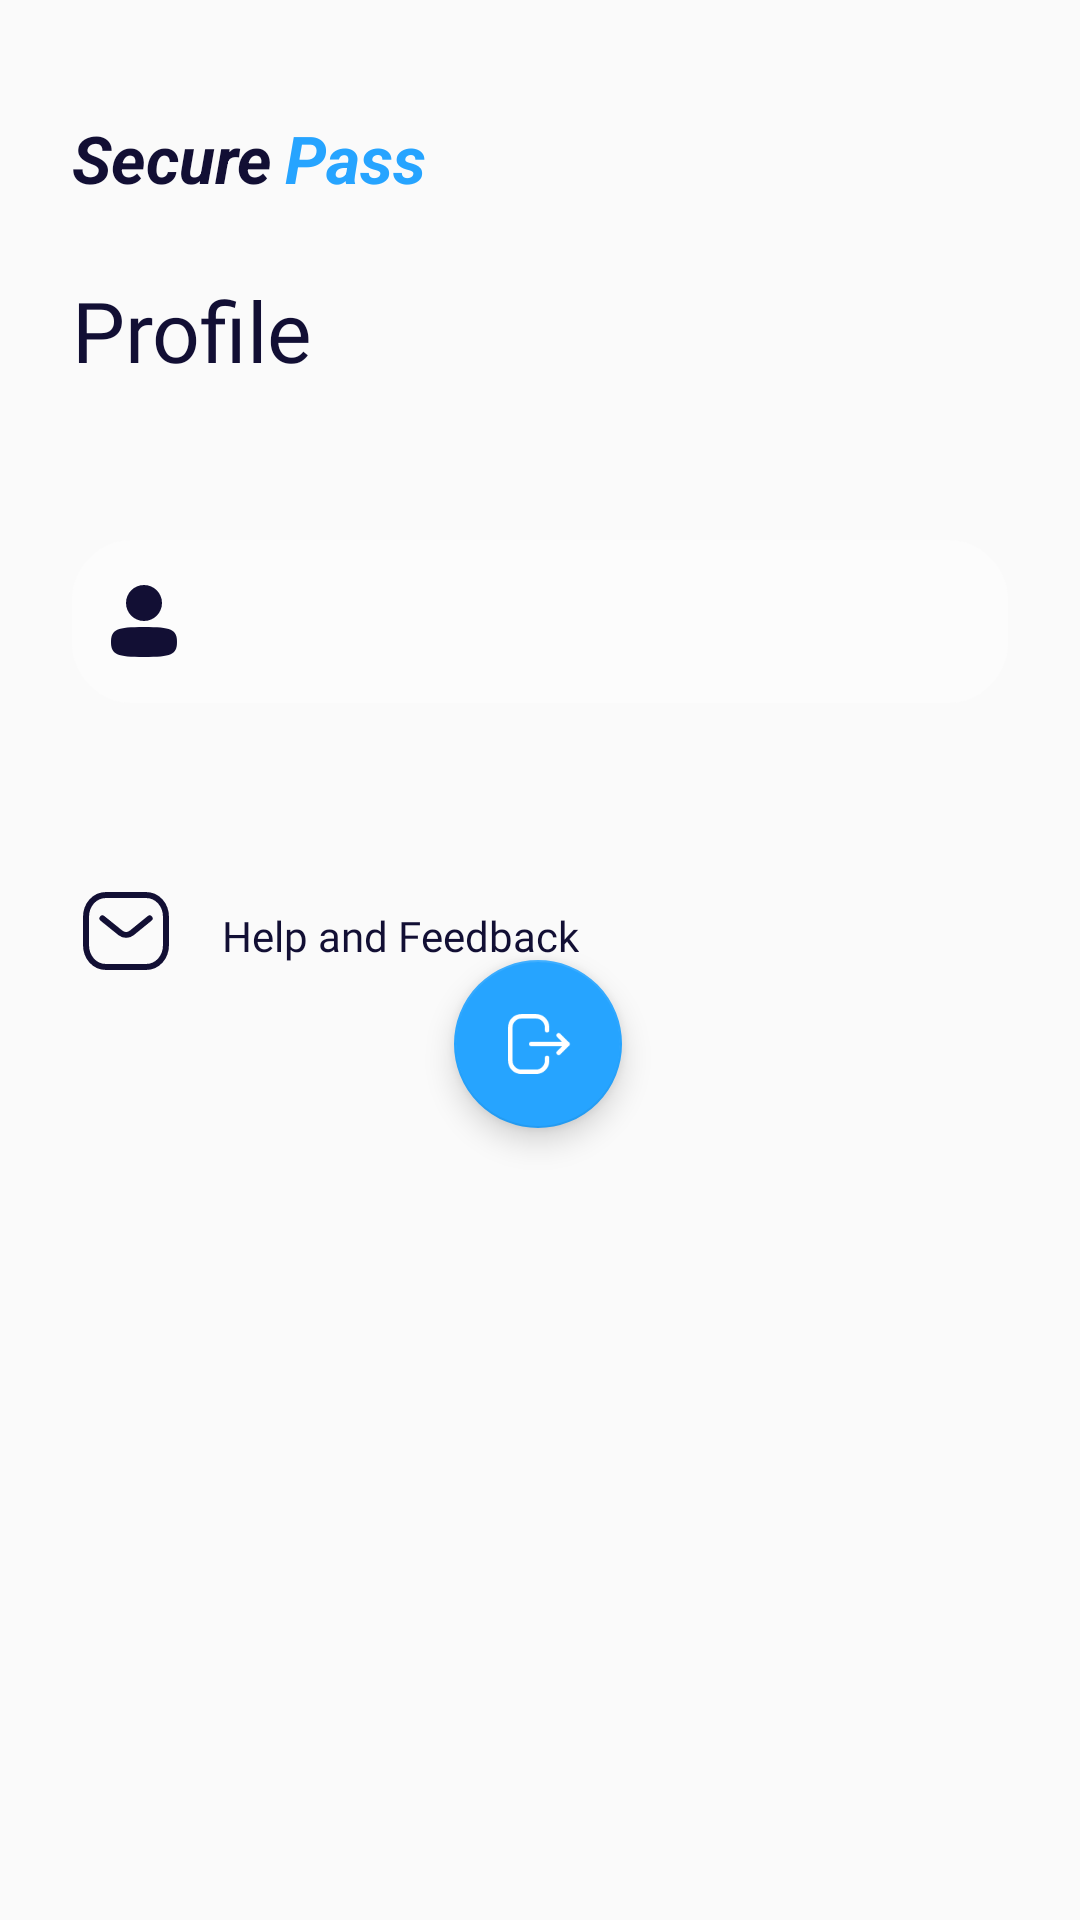

Icons on this 1080px x 1920px Android screen, each with its box as (x1, y1, x2, y2):
message: (83, 892, 169, 970)
